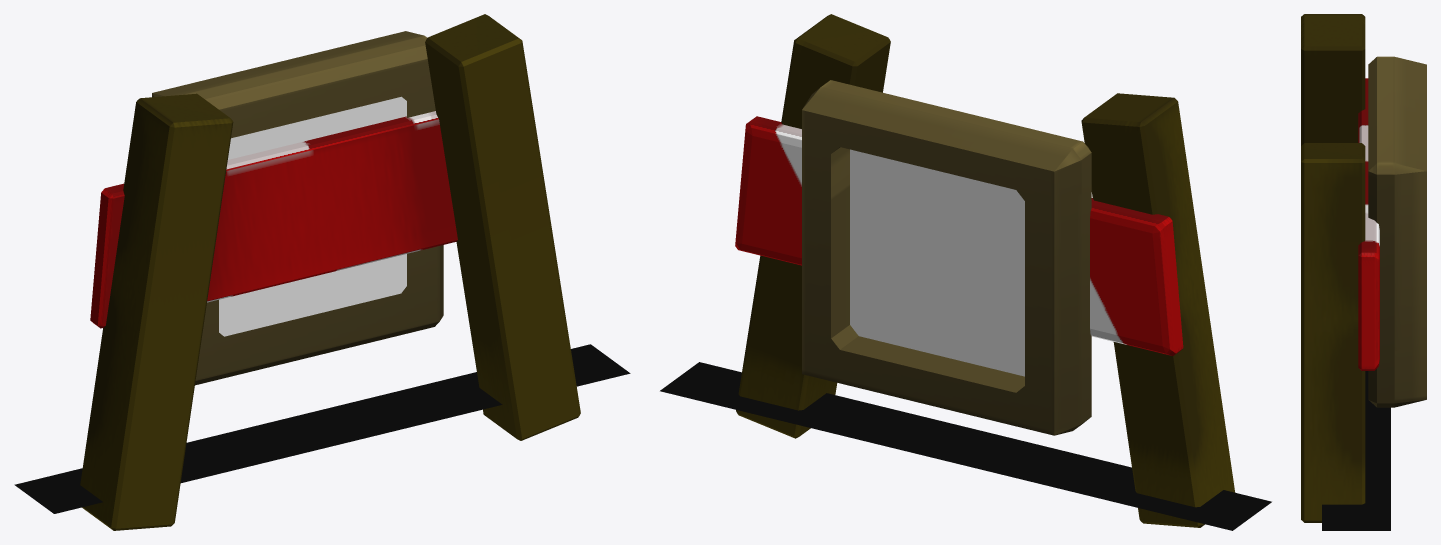
The model's file is barrierShapeSquare1.obj.
3 views of the same model, side by side, from view 1: azimuth 30°, elevation 25°; view 2: azimuth 150°, elevation 25°; view 3: azimuth 270°, elevation 25° (orthographic). The views are drawn at different scales.
Visible parts, largest first — view 1: barrier2_Cube.147, barrierShapes.006_Cube.149, barrierShapes.005_Cube.148; view 2: barrier2_Cube.147, barrierShapes.006_Cube.149, barrierShapes.005_Cube.148; view 3: barrier2_Cube.147, barrierShapes.006_Cube.149.
Part boxes in pixels (<box>): barrier2_Cube.147: <box>14,14,630,530</box>; barrierShapes.006_Cube.149: <box>152,31,443,385</box>; barrierShapes.005_Cube.148: <box>219,96,406,336</box>; barrier2_Cube.147: <box>660,14,1271,530</box>; barrierShapes.006_Cube.149: <box>802,80,1091,435</box>; barrierShapes.005_Cube.148: <box>850,149,1024,376</box>; barrier2_Cube.147: <box>1301,14,1390,530</box>; barrierShapes.006_Cube.149: <box>1368,56,1426,407</box>.
Bounding box in the file's own units: 2.6 × 1.74 × 0.571.
